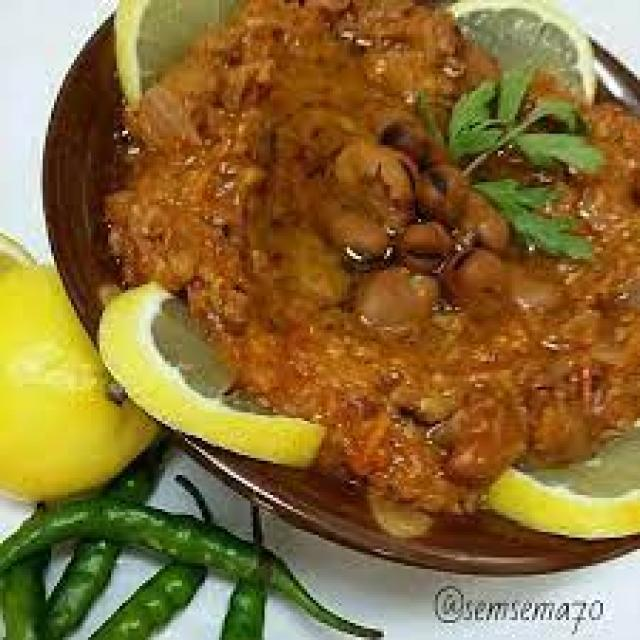fool: (102, 0, 640, 501)
